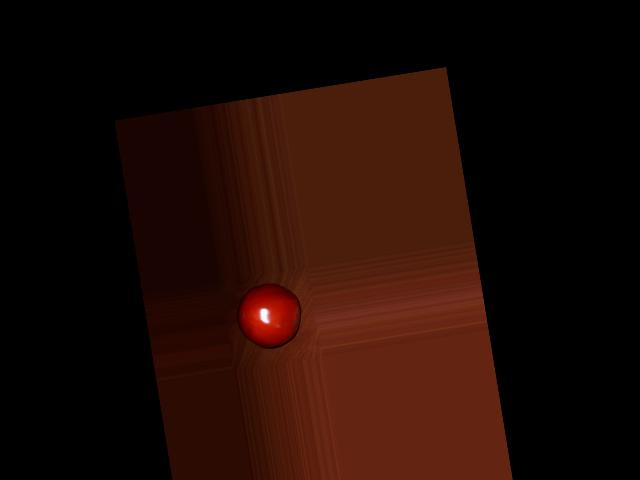tomato: (231, 278, 305, 352)
